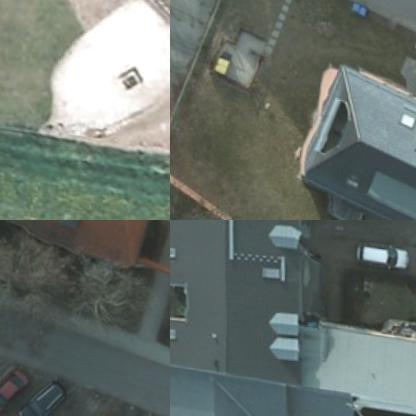car: (16, 370, 66, 415), (354, 234, 412, 267), (0, 357, 29, 415)
